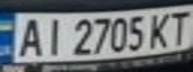0: (109, 14, 130, 53)
2: (66, 15, 93, 56)
5: (127, 12, 151, 52)
7: (90, 15, 112, 55)
A: (12, 15, 48, 58)
I: (39, 15, 69, 57)
K: (145, 9, 175, 48)
T: (163, 8, 193, 46)
